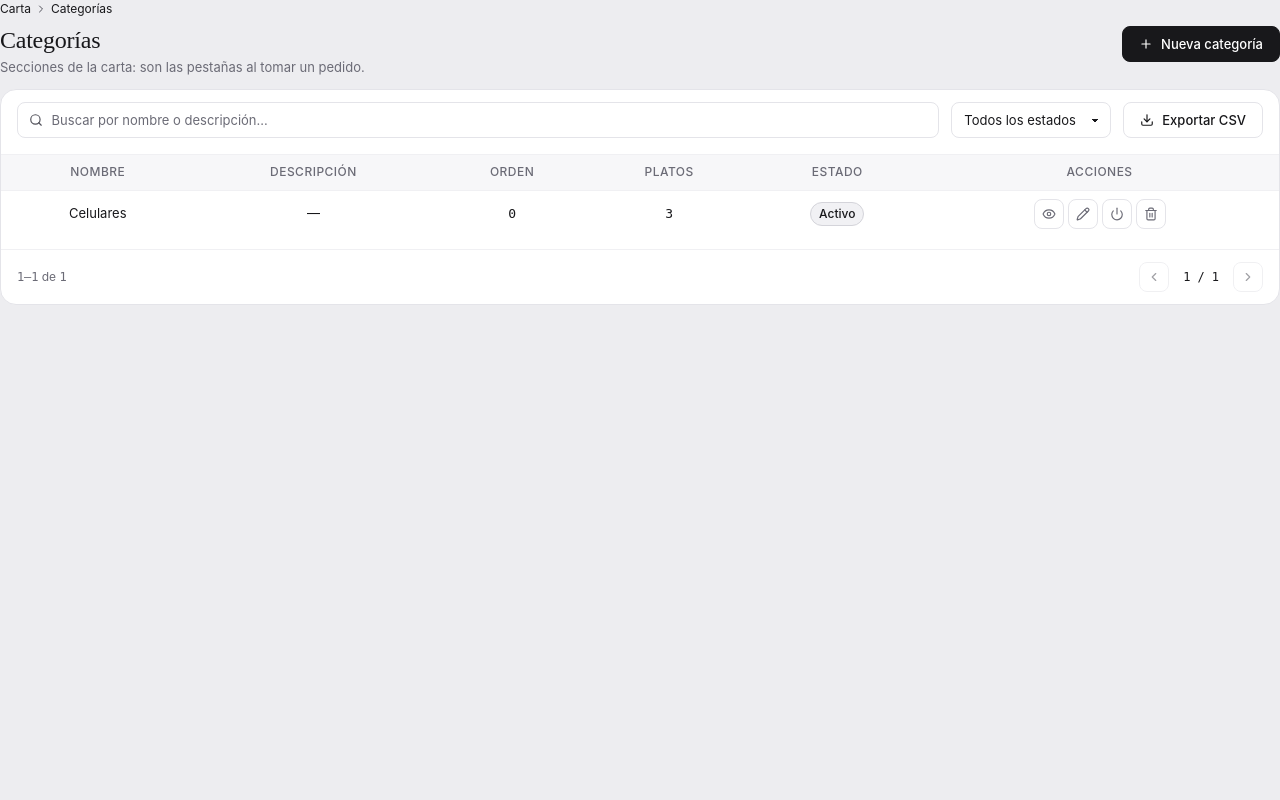
Test: Alertas conectadas a una pantalla real › eliminar con éxito deja la alerta verde; el 409 deja la roja con la causa del backend
Click the button named "Eliminar". click: [1151, 214]
box: [1136,199,1166,229]
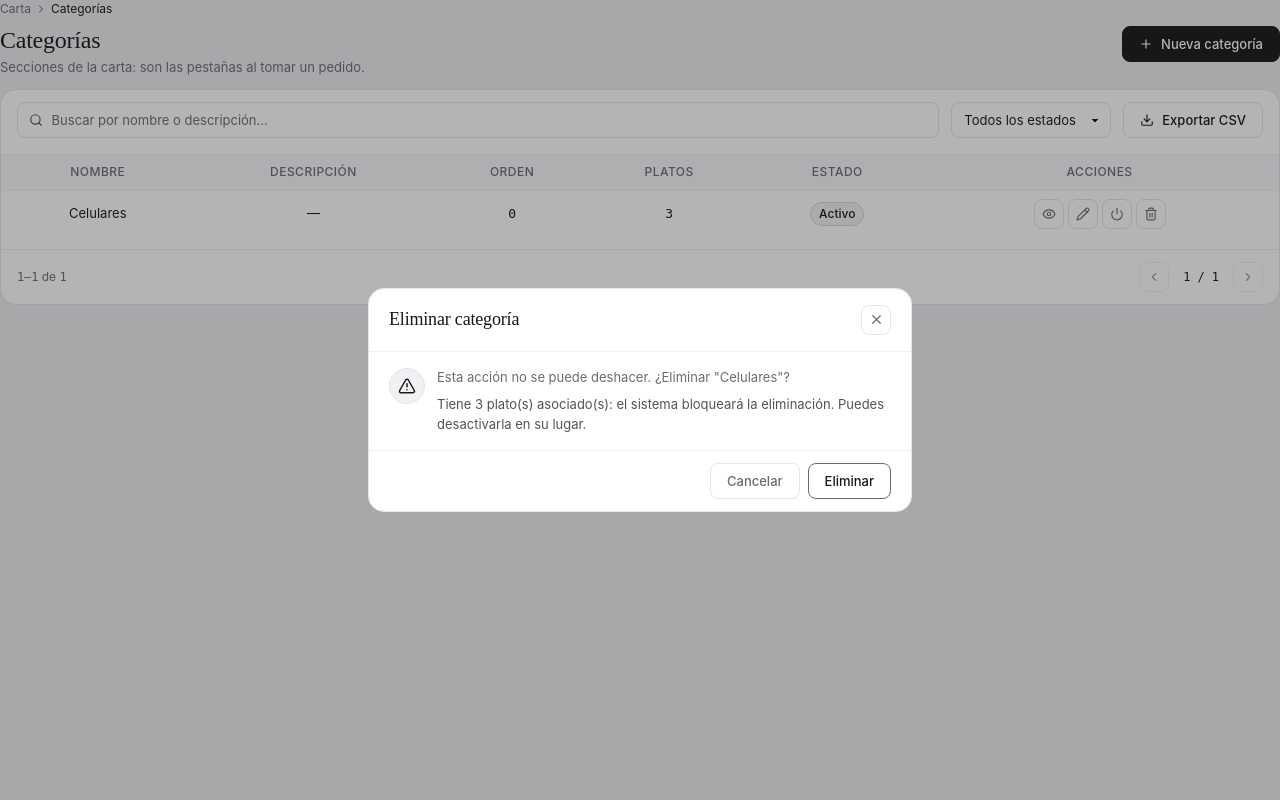
Click the button "Eliminar". click: [849, 481]
box: [808,463,891,499]
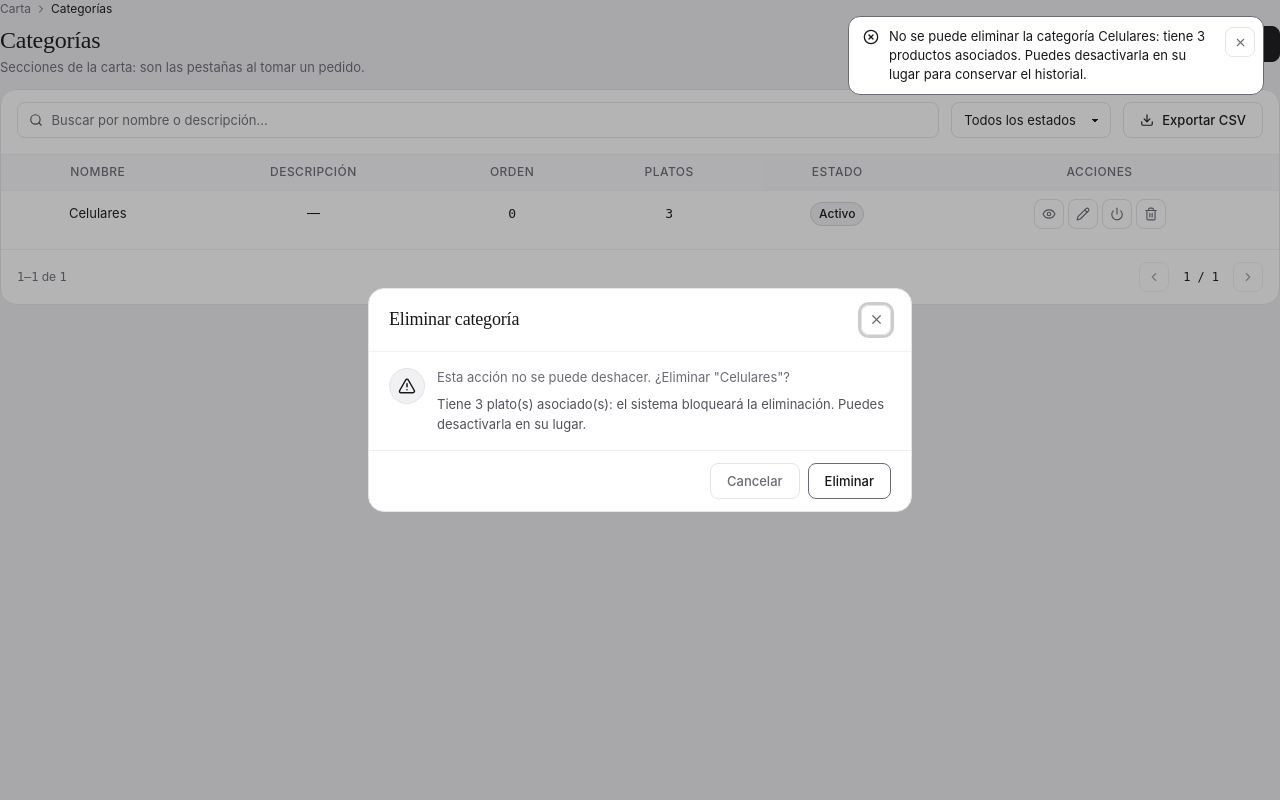
Check: the dialog is shown, box [368,288,912,512]
Check: the message shows "No se puede eliminar la categoría Celulares: tiene 3 productos asociados.", box [889,28,1205,82]
Click the button "Eliminar". click: [849, 481]
box: [808,463,891,499]
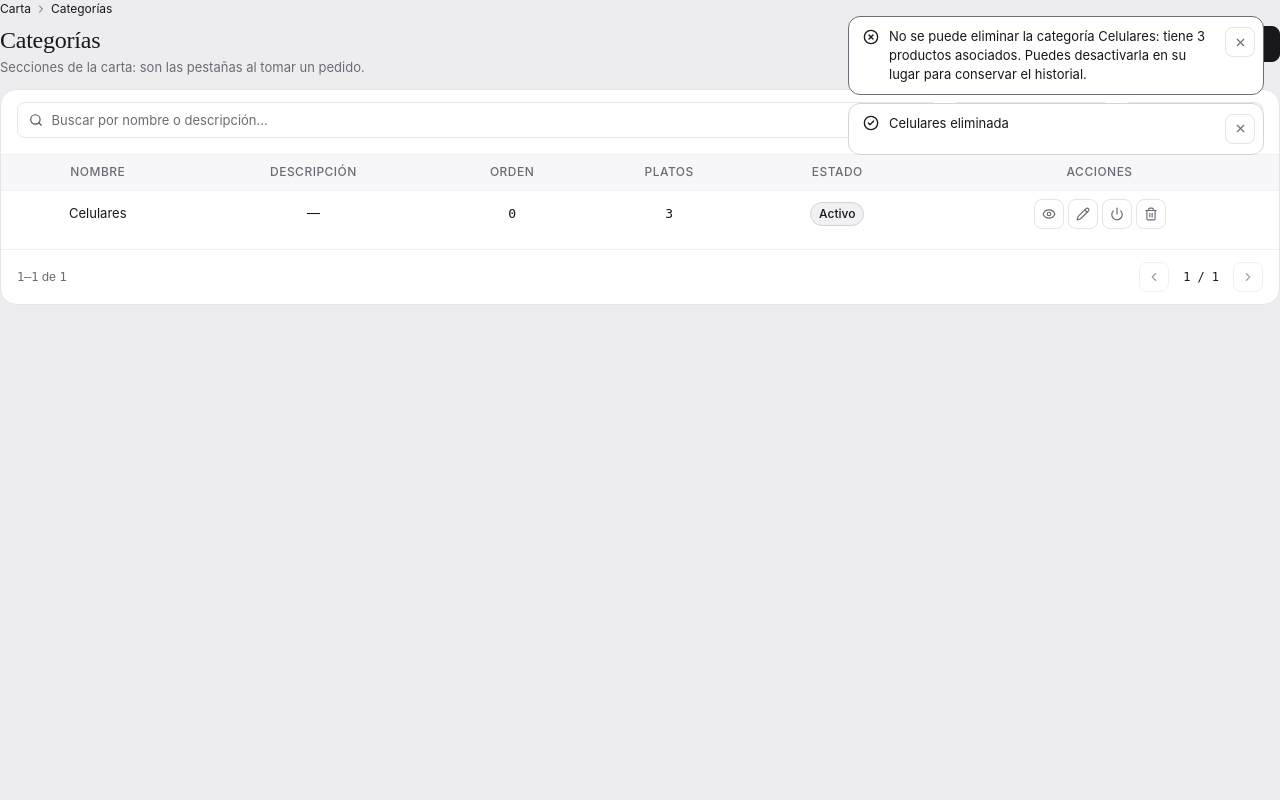
Check: the message "Celulares eliminada" is shown, box [848,102,1264,154]
